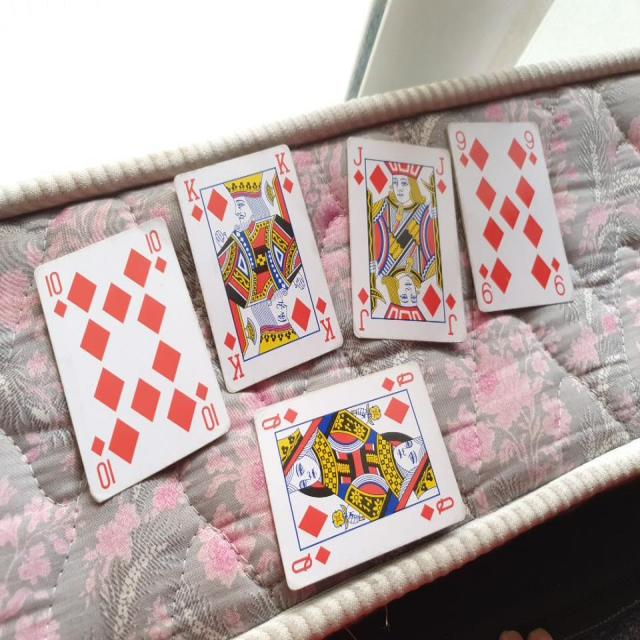10 Diamonds: (30, 213, 231, 507)
9 Diamonds: (446, 118, 575, 313)
J Diamonds: (343, 132, 468, 345)
K Diamonds: (173, 140, 346, 397)
Q Diamonds: (251, 358, 468, 593)
